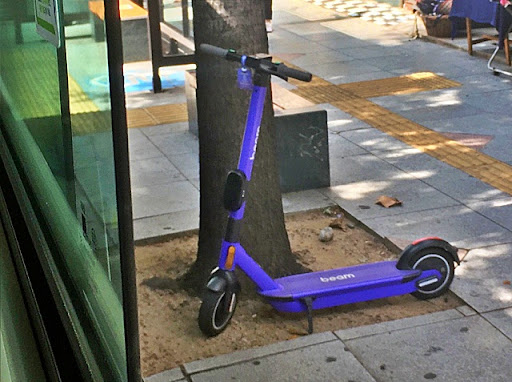scooter: (186, 43, 460, 333)
